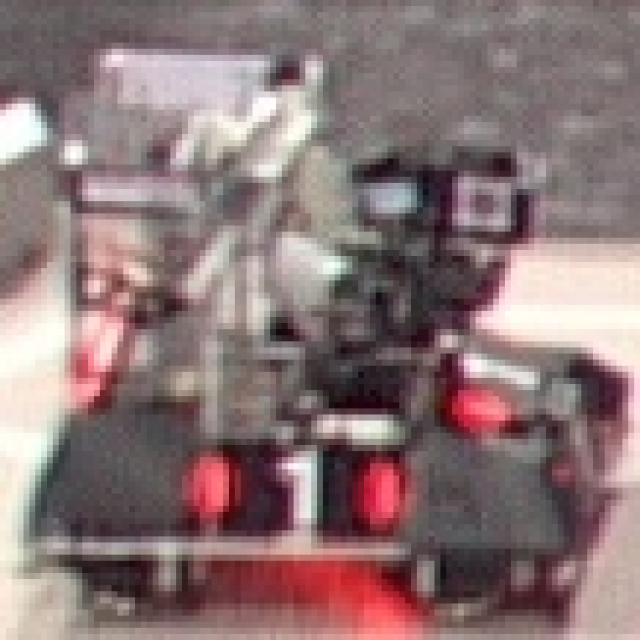R1: (188, 445, 399, 524), (458, 323, 546, 433)
